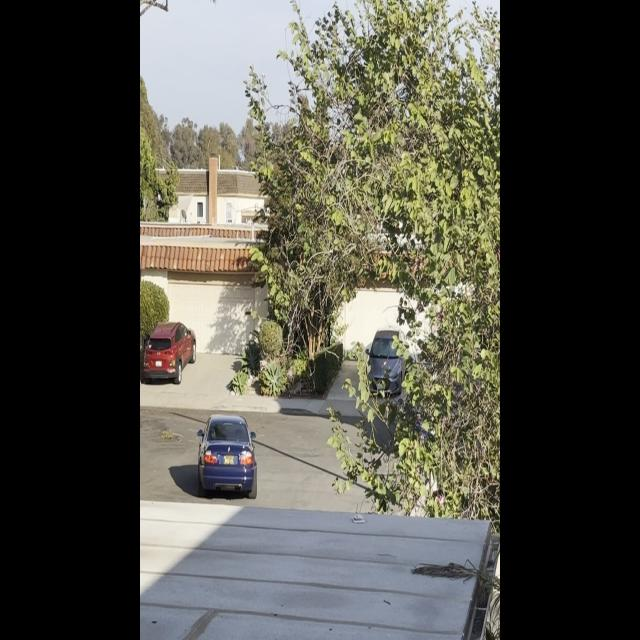Carbeetle: (195, 408, 261, 498)
Civilian: (140, 318, 199, 383), (363, 320, 409, 403)
